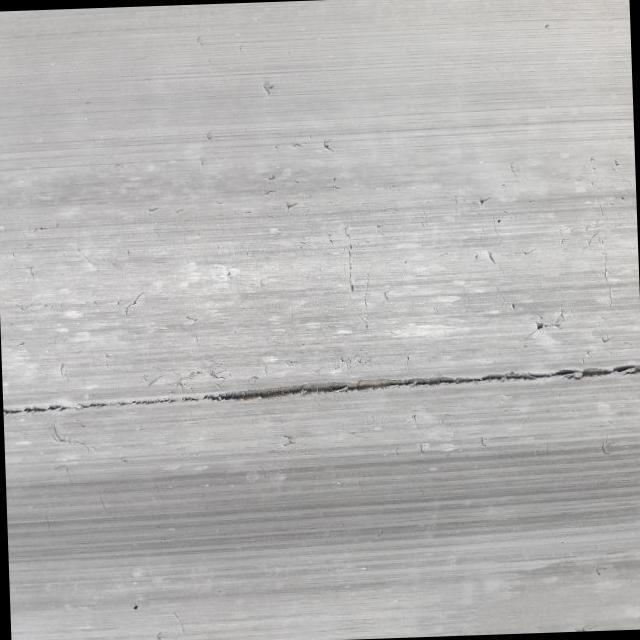Tear: (1, 361, 640, 421)
